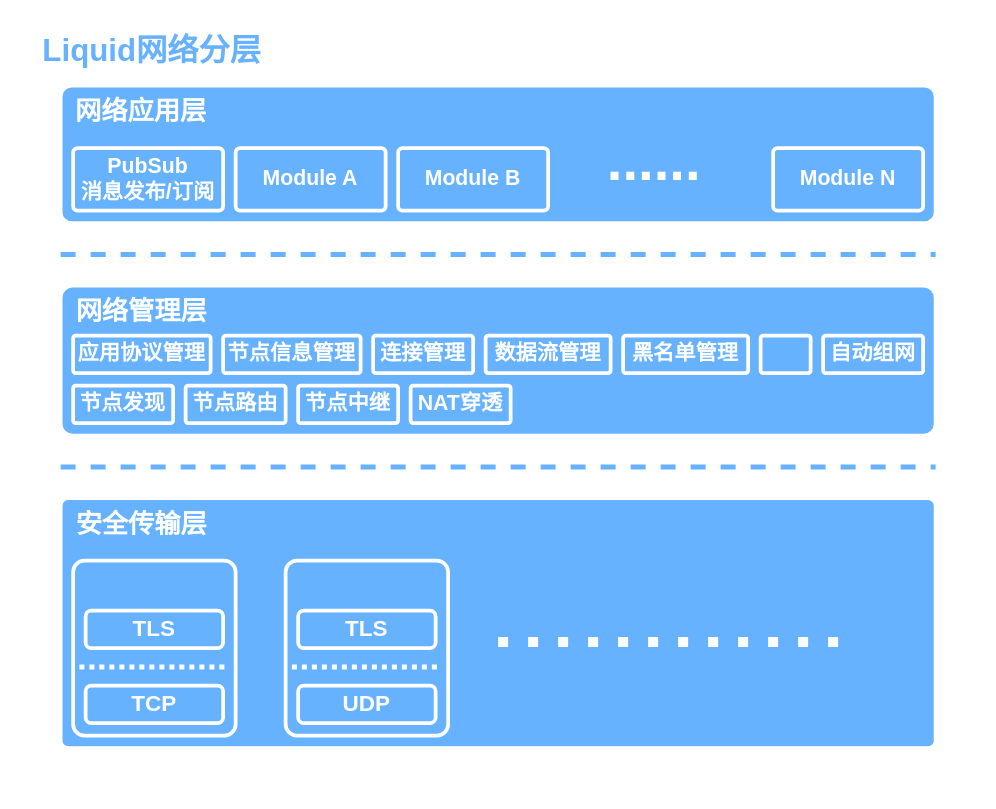
This 996x809 diagram has some shape labels left out. The box of each missing label's shape, as (x1, y1, x2, y2) in pixels:
QUIC: (283, 558, 449, 737)
TCP（TLS）: (71, 558, 237, 737)
组播: (758, 333, 812, 374)
